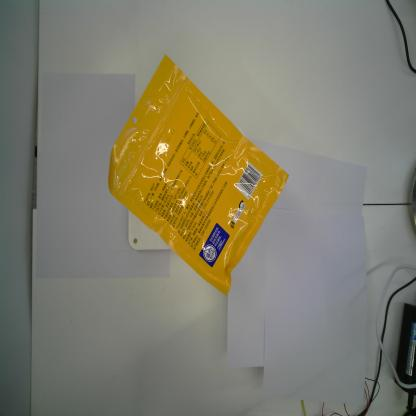Dried Fruit: (107, 53, 288, 294)
